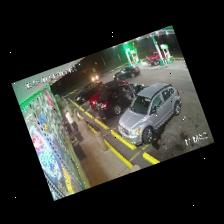person: (64, 110, 77, 132), (150, 131, 164, 150)
